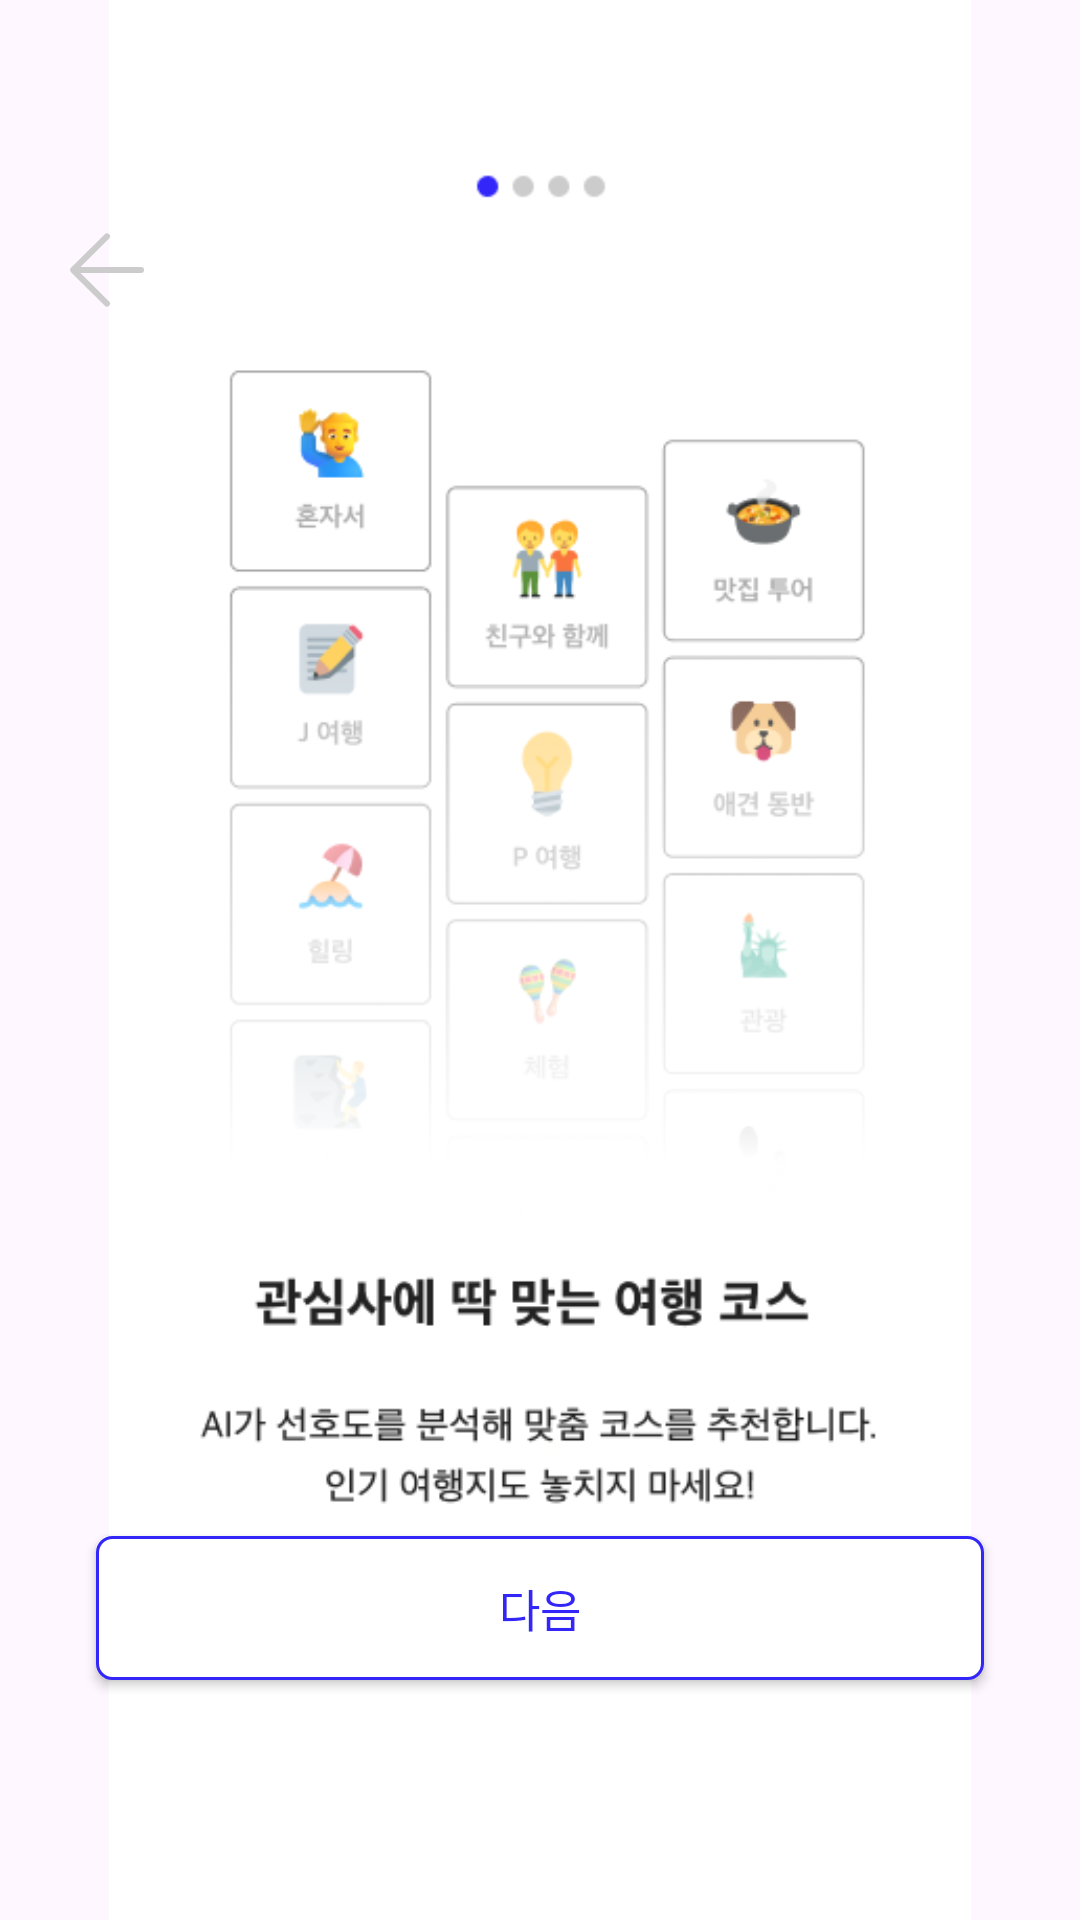

Point at icon controls on the screen. Image size 1080×1920, points as (x=x, y=y).
navigation: (x=107, y=270)
